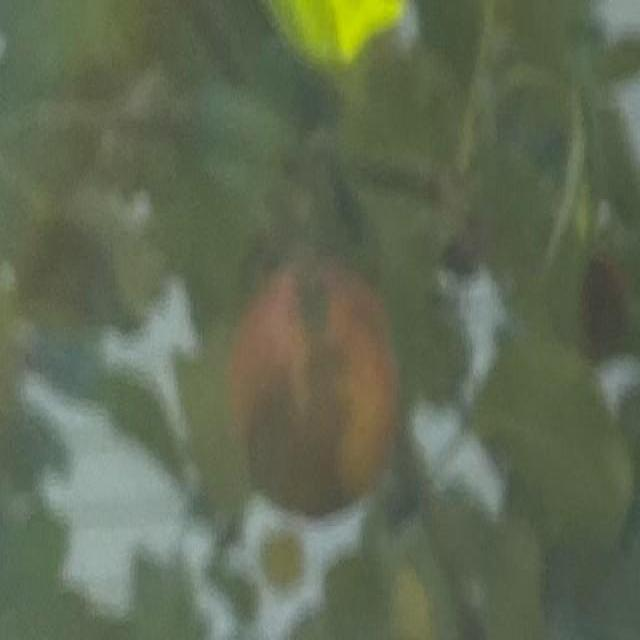Rotten Apple: (234, 256, 393, 517)
